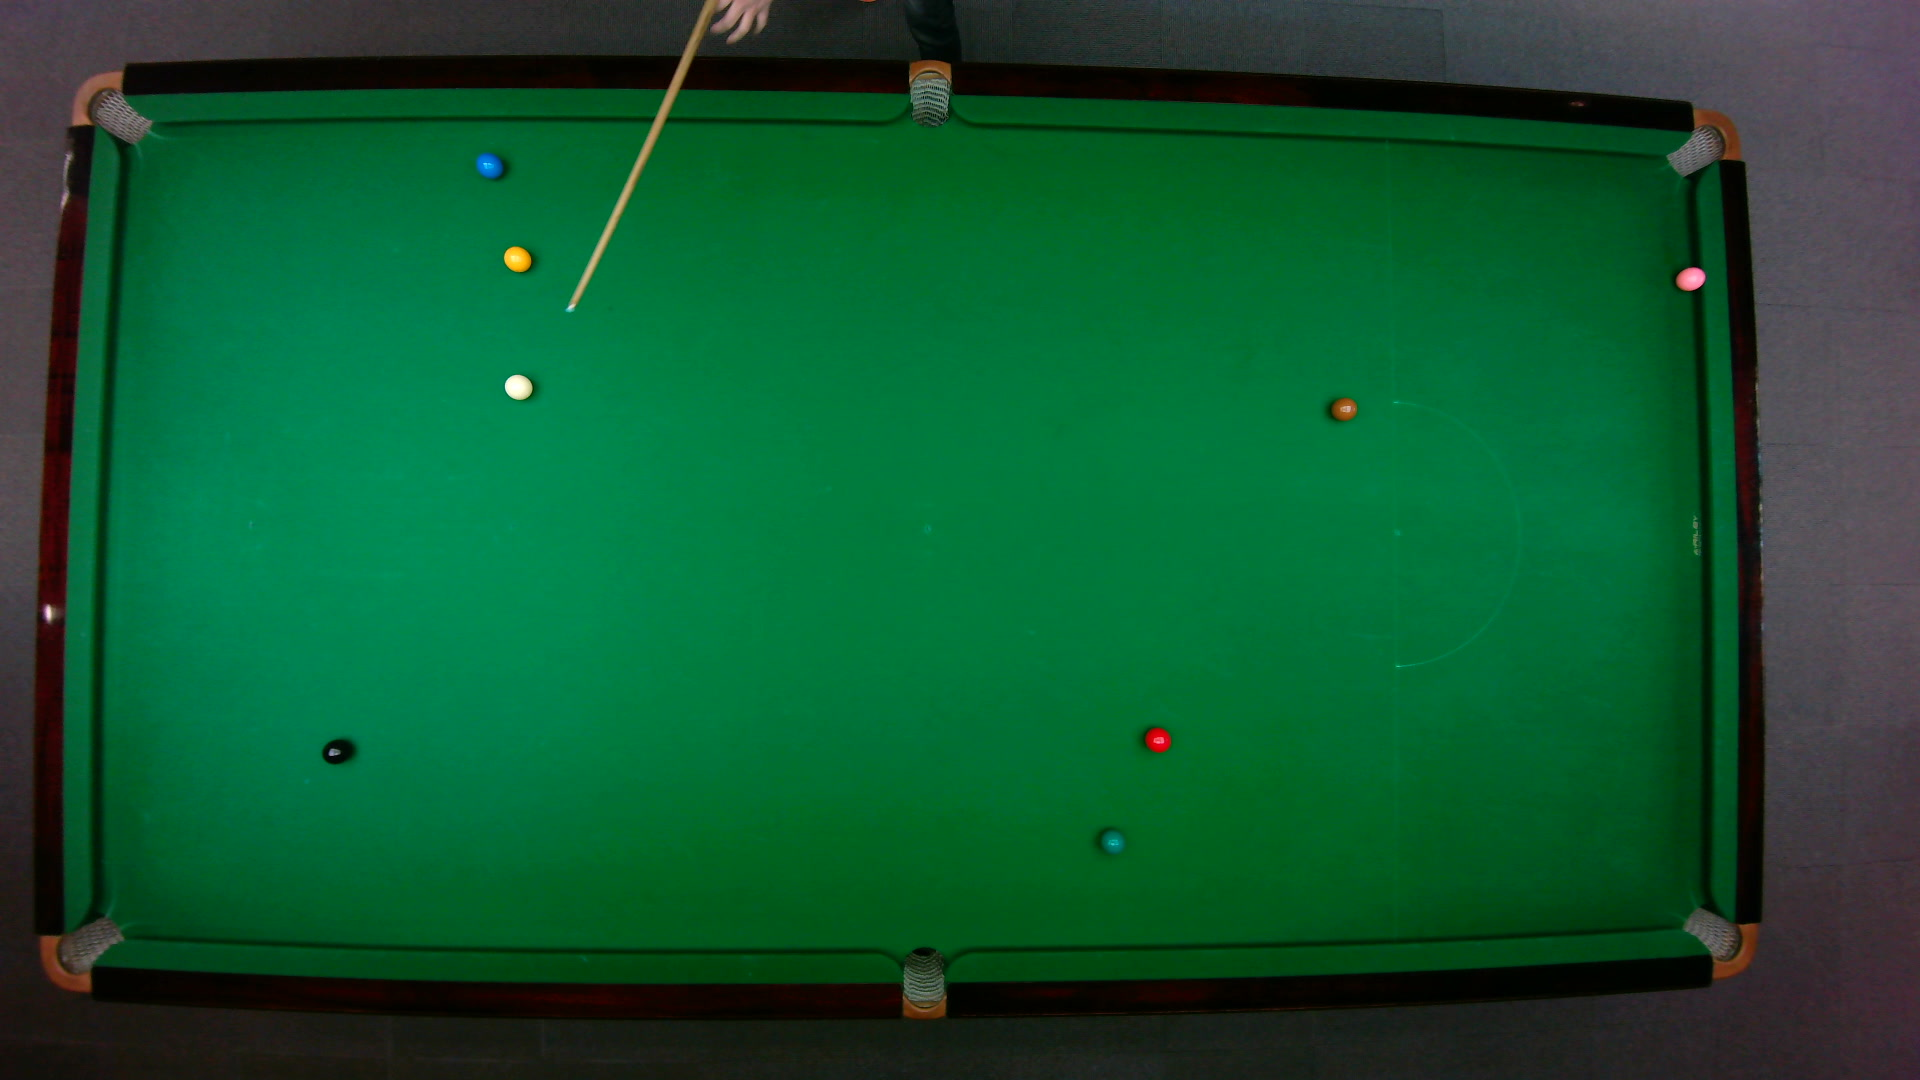bag: (37, 913, 125, 992), (69, 69, 152, 145), (1679, 905, 1756, 978), (1663, 107, 1741, 177), (901, 944, 944, 1021), (907, 57, 951, 127)
black: (320, 736, 352, 765)
blue: (473, 150, 504, 179)
brown: (1329, 396, 1360, 421)
cue: (563, 0, 716, 316)
green: (1097, 827, 1126, 855)
pink: (1673, 264, 1706, 291)
red: (1142, 724, 1174, 752)
white: (502, 372, 534, 401)
yellow: (501, 244, 531, 273)
zone: (1391, 400, 1520, 669)
